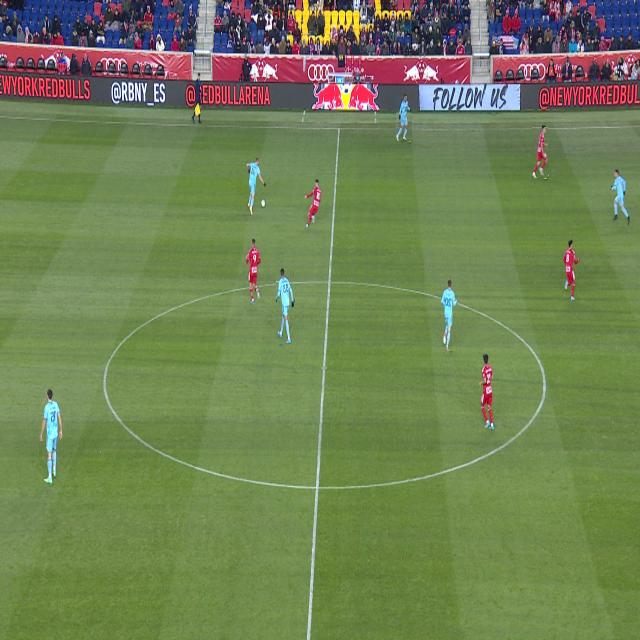football: (261, 199, 265, 207)
player: (39, 390, 63, 484), (276, 269, 294, 344), (246, 157, 266, 215), (479, 354, 494, 430), (610, 170, 630, 225), (442, 280, 456, 351), (246, 239, 261, 304), (564, 240, 579, 301), (305, 179, 321, 229), (533, 126, 548, 178), (396, 95, 412, 141)
